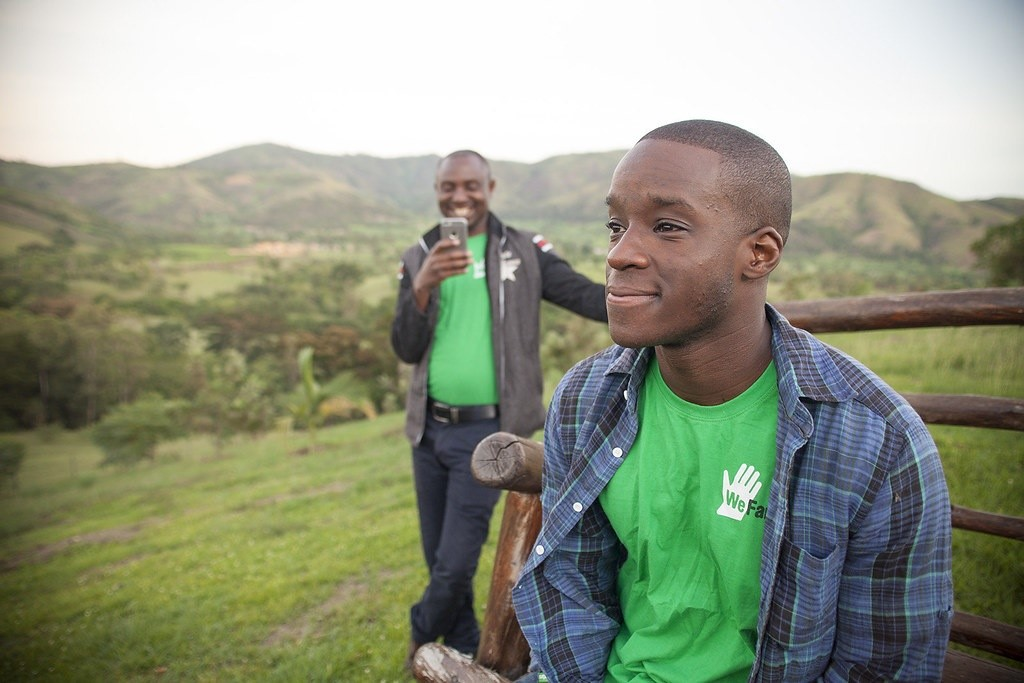face_no_mask: (603, 120, 793, 352), (434, 148, 496, 233)
